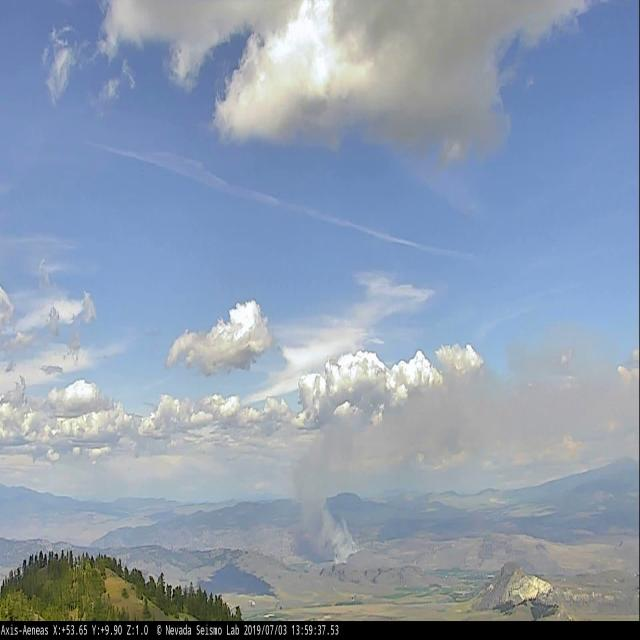smoke: (270, 436, 367, 576)
